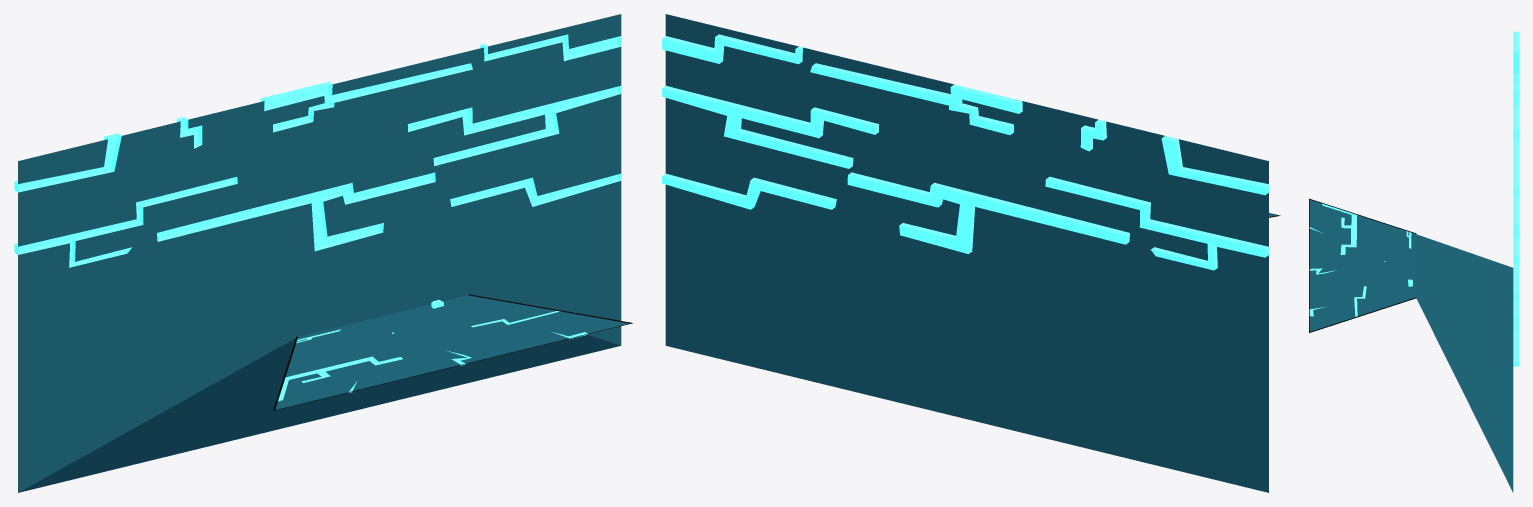
File: Main_1_Background.glb
3 views of the same model, side by side, from view 1: azimuth 30°, elevation 25°; view 2: azimuth 150°, elevation 25°; view 3: azimuth 270°, elevation 25° (orthographic). The views are drawn at different scales.
Visible parts, largest first — view 1: Plane; view 2: Plane; view 3: Plane.
Boxes of the visible parts, box(x1,y1,x2,y2) form: Plane: box(14, 14, 633, 492); Plane: box(662, 14, 1280, 492); Plane: box(1309, 31, 1518, 492).
Size of the model in its own units: 35.35 by 18.58 by 13.92.
